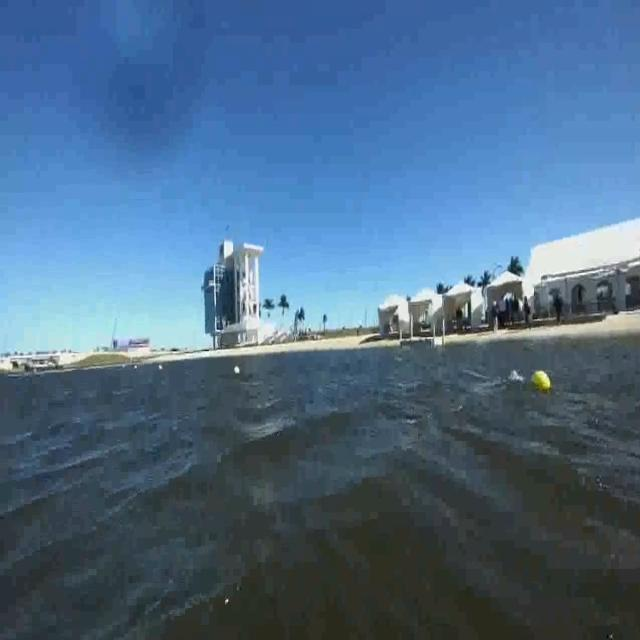yellow-buoy: (534, 370, 554, 390)
